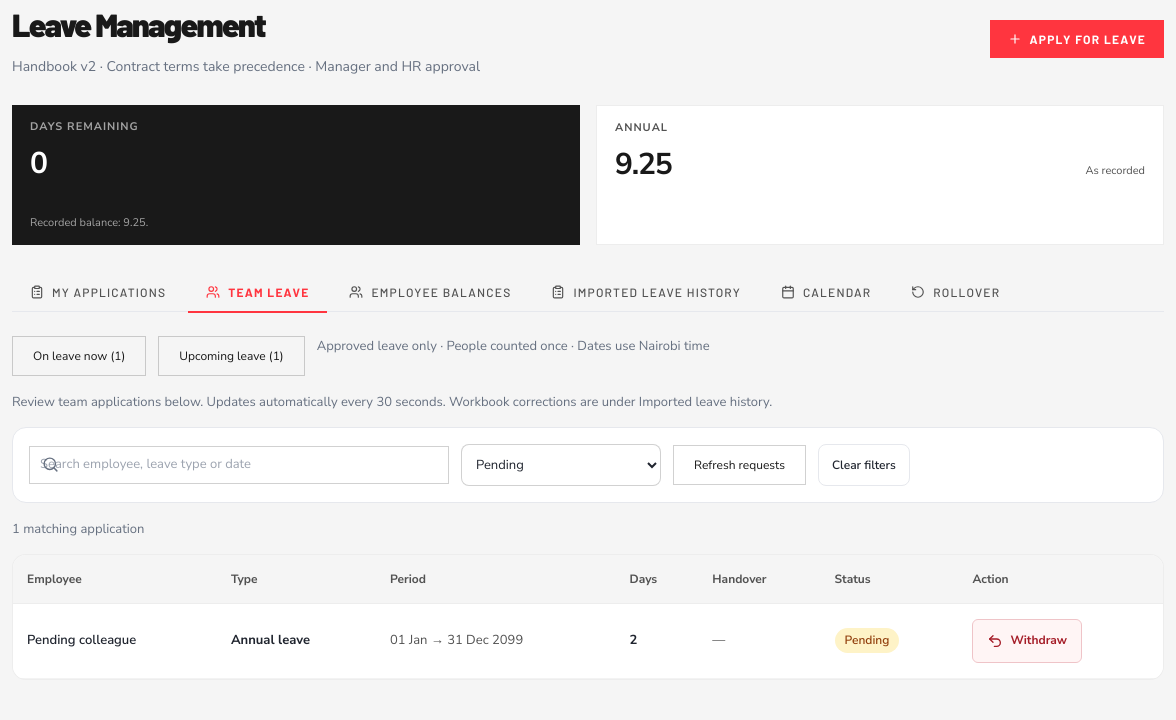
HR sees current and upcoming approved leave without the pending filter hiding it
The width and height of the screenshot is (1176, 720).
Click the button "On leave now (1)": {"x": 79, "y": 356} [12,336,146,376]
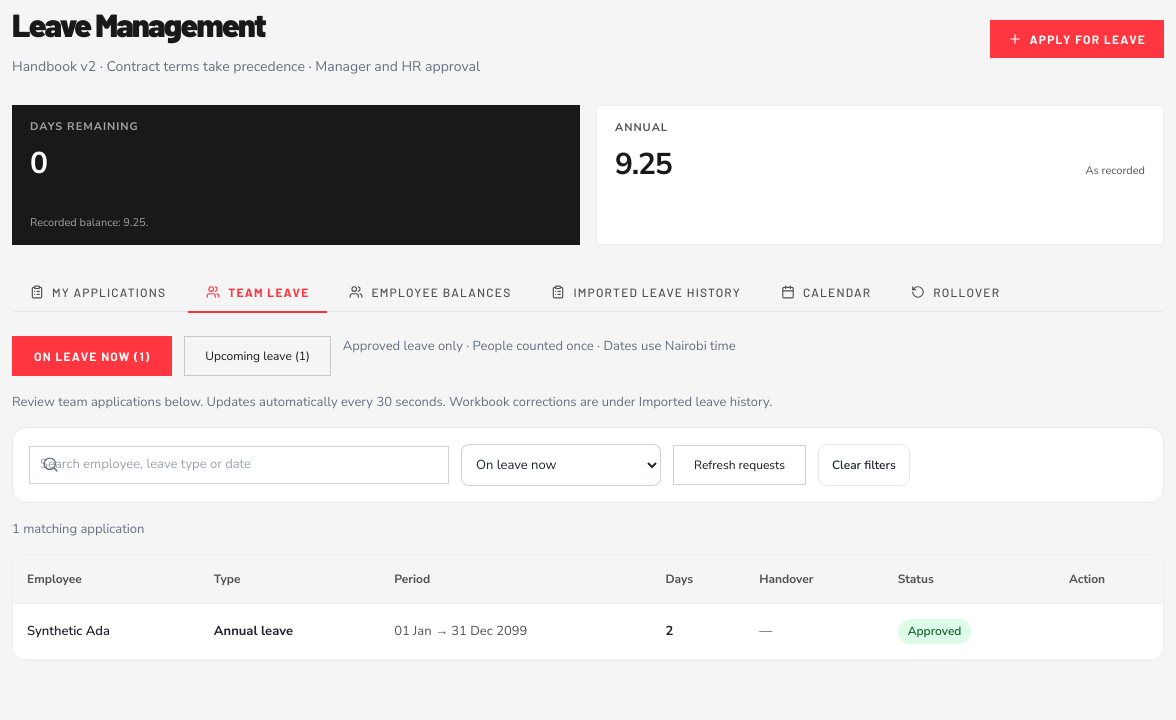
Expected: the row with test id "leave-current" is shown, [13,603,1163,660]
Expected: the row with test id "leave-pending" is gone
Click the button "Upcoming leave (1)": {"x": 258, "y": 356} [184,336,331,376]
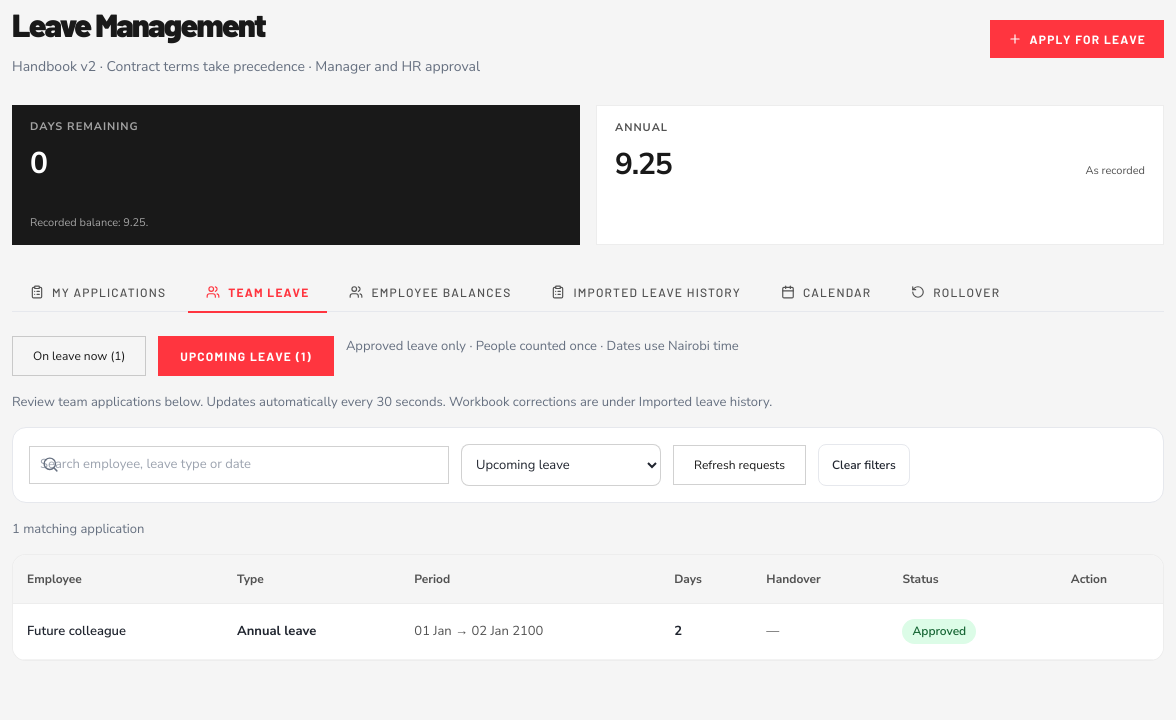
Expected: the row with test id "leave-future" is shown, [13,603,1163,660]
Expected: the row with test id "leave-current" is gone
